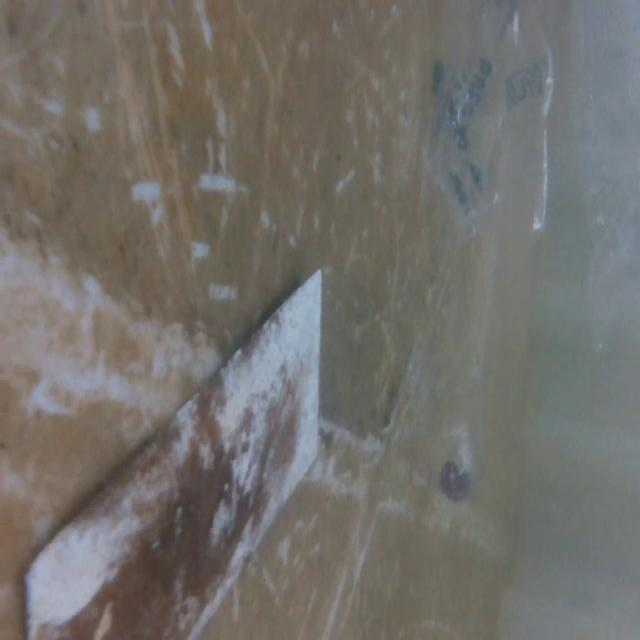metal: (0, 264, 327, 640)
plastic bags: (419, 0, 559, 250)
plastic bottle: (384, 321, 489, 541)
